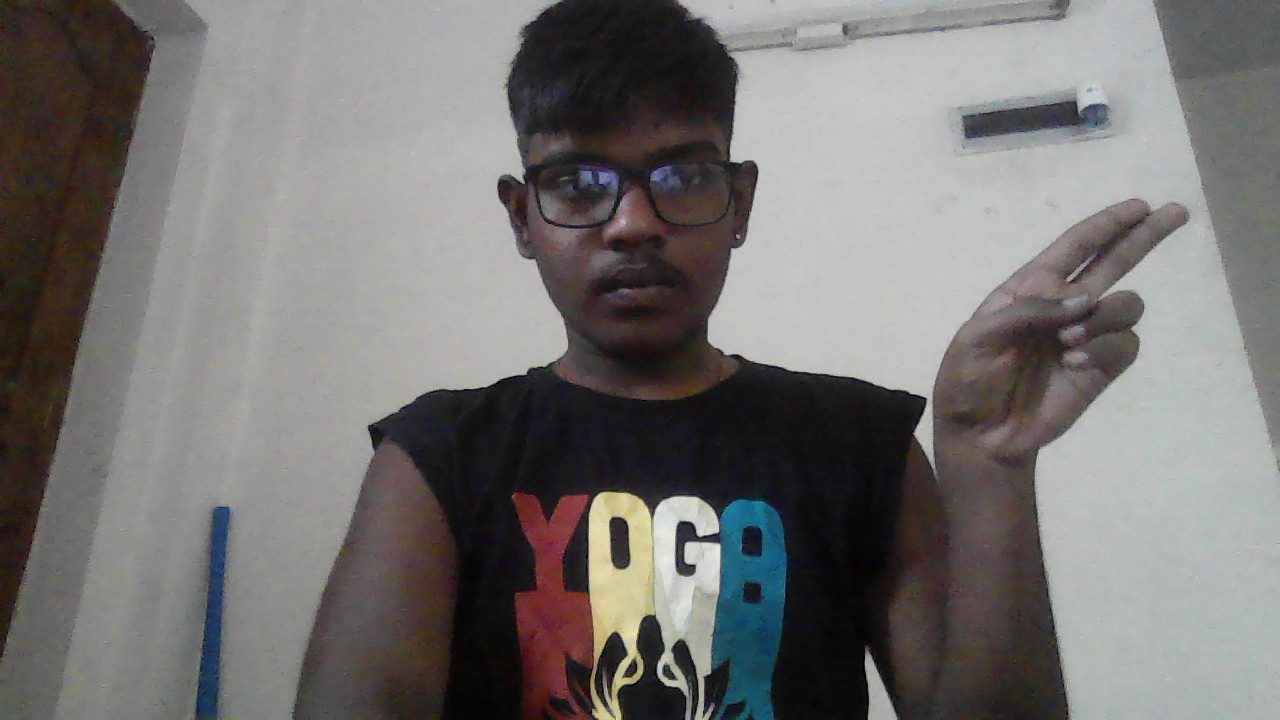H: (931, 200, 1191, 472)
